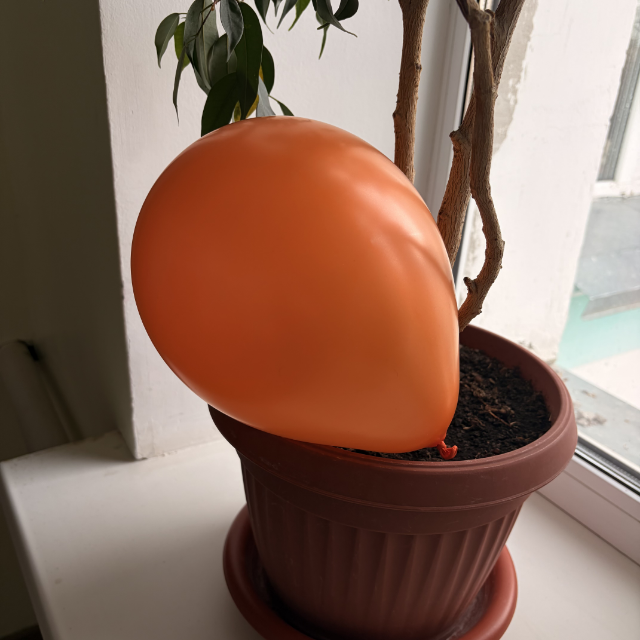balloon: (130, 115, 459, 460)
